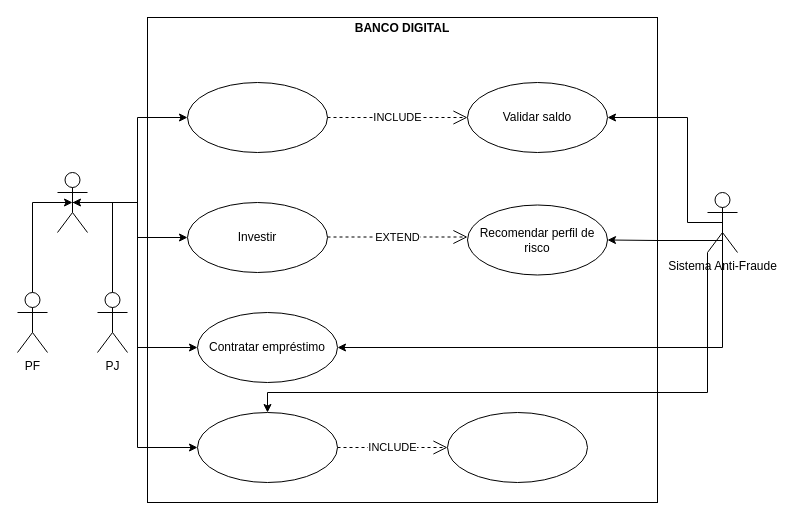
Some shapes in this 794 by 520 pixel diagram are drawn without their labels. Each missing label, with the centre of its shape:
"Cliente" goes at [72,202].
"Filtrar por período" goes at [517,447].
"Gerar extrato" goes at [267,447].
"Tranferência" goes at [257,117].
